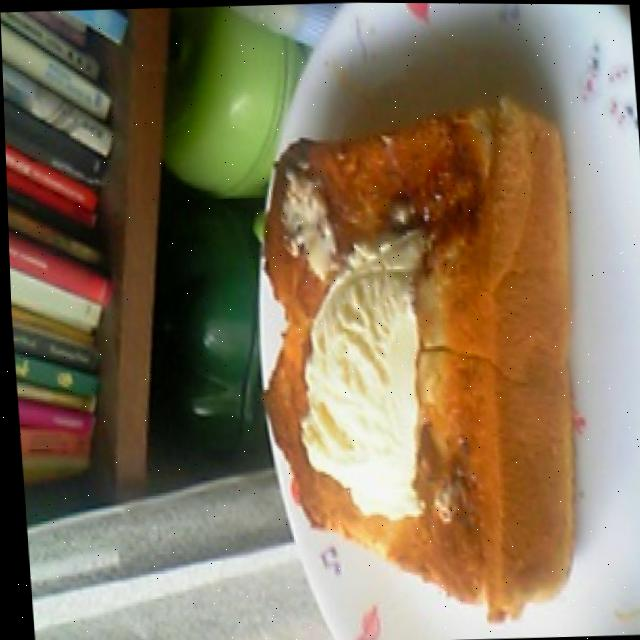面包点心: (256, 93, 596, 589)
